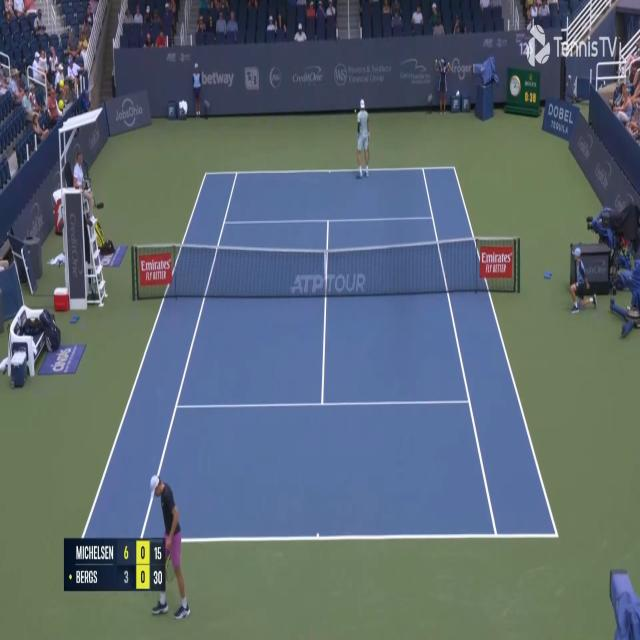tennis-player: (150, 473, 193, 624), (354, 98, 372, 178)
